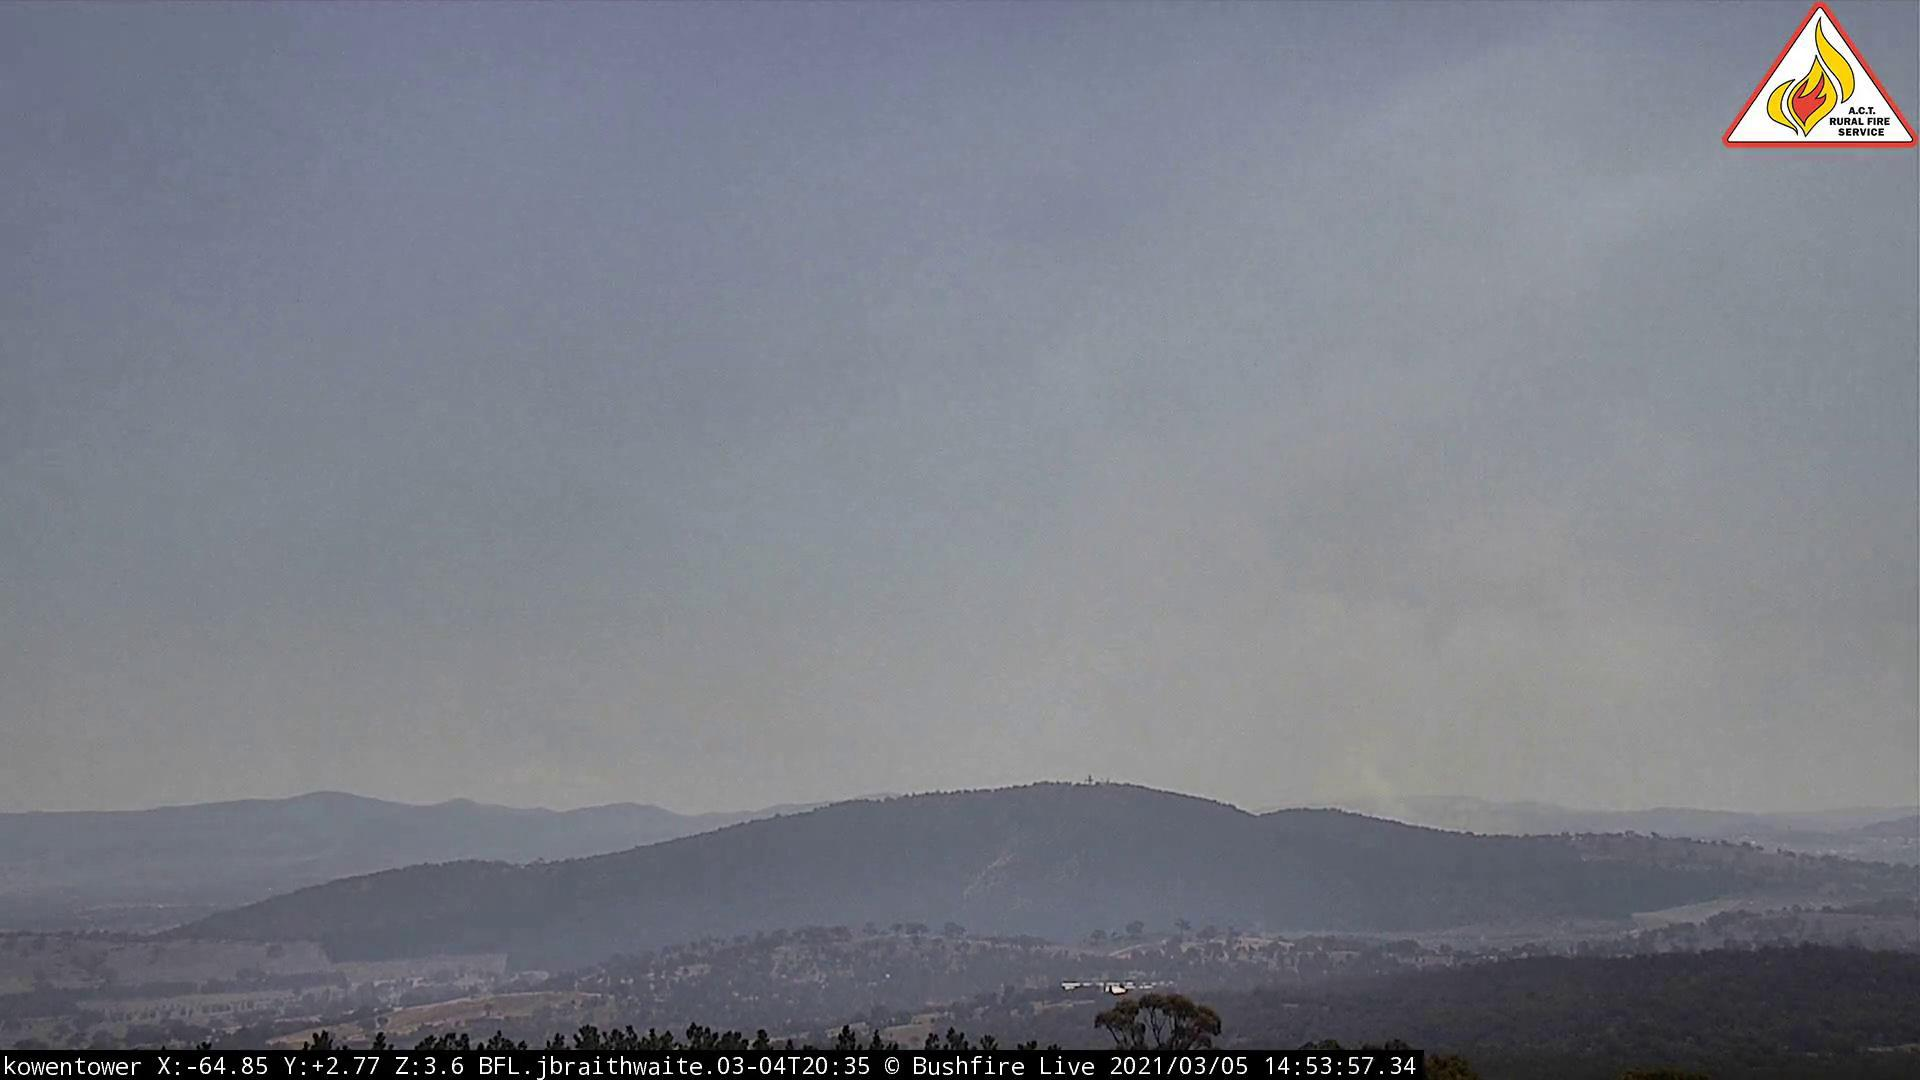Smoke: (993, 392, 1846, 847)
